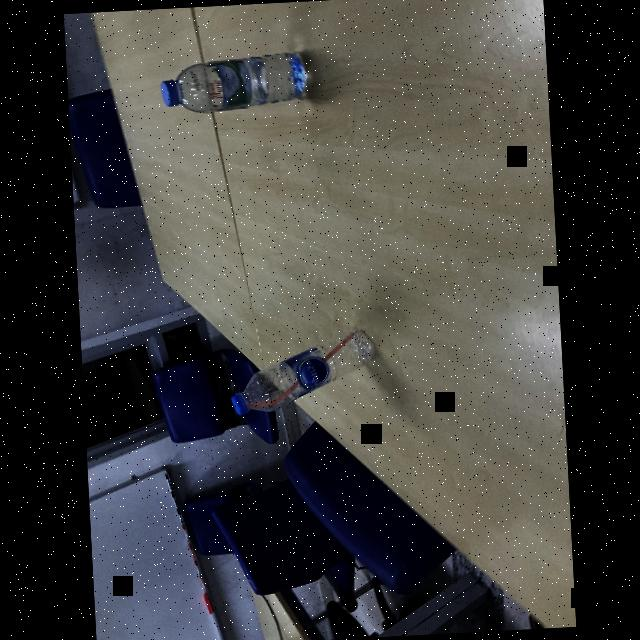plastic_bottle: (226, 329, 382, 415), (158, 50, 312, 116)
plastic_bottle_cap: (158, 76, 182, 108), (230, 390, 250, 417)
straw: (240, 328, 363, 408)
